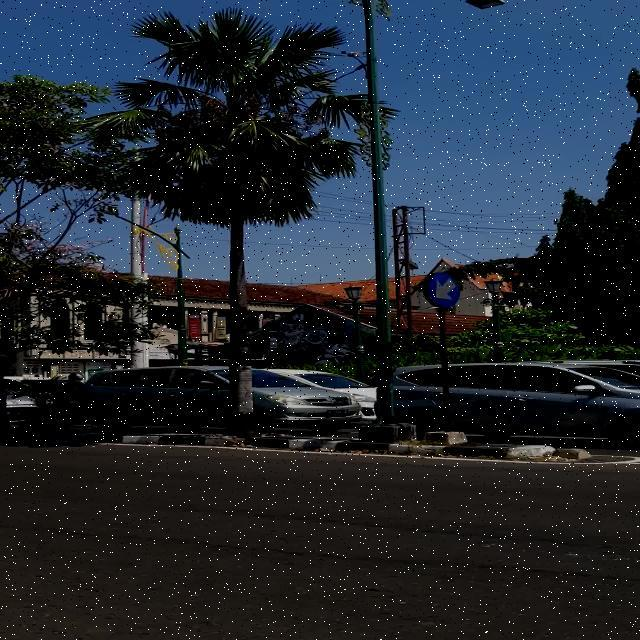Lajur Kiri: (428, 272, 460, 307)
